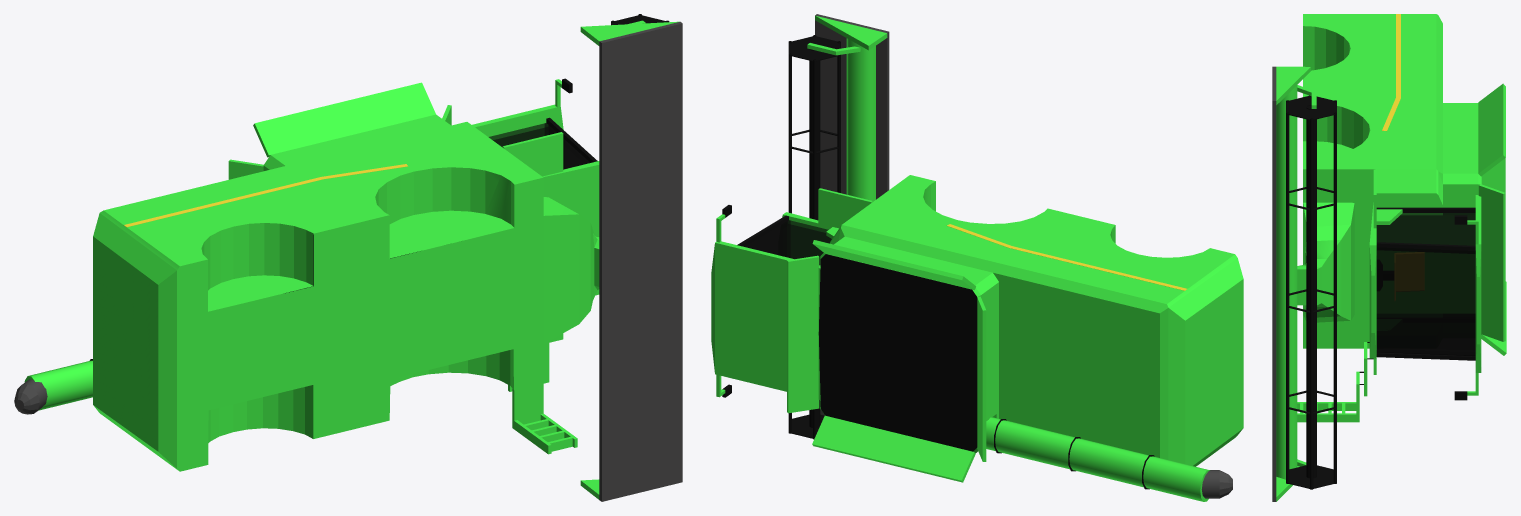
File: Pipe (9).obj
3 views of the same model, side by side, from view 1: azimuth 30°, elevation 25°; view 2: azimuth 150°, elevation 25°; view 3: azimuth 270°, elevation 25° (orthographic). The views are drawn at different scales.
Visible parts, largest first — view 1: Pipe (9); view 2: Pipe (9); view 3: Pipe (9).
Boxes of the visible parts, box(x1,y1,x2,y2) form: Pipe (9): box(14, 14, 682, 501); Pipe (9): box(711, 14, 1243, 501); Pipe (9): box(1272, 14, 1506, 501).
Bounding box in the file's own units: 6.95 × 5.3 × 2.81.
